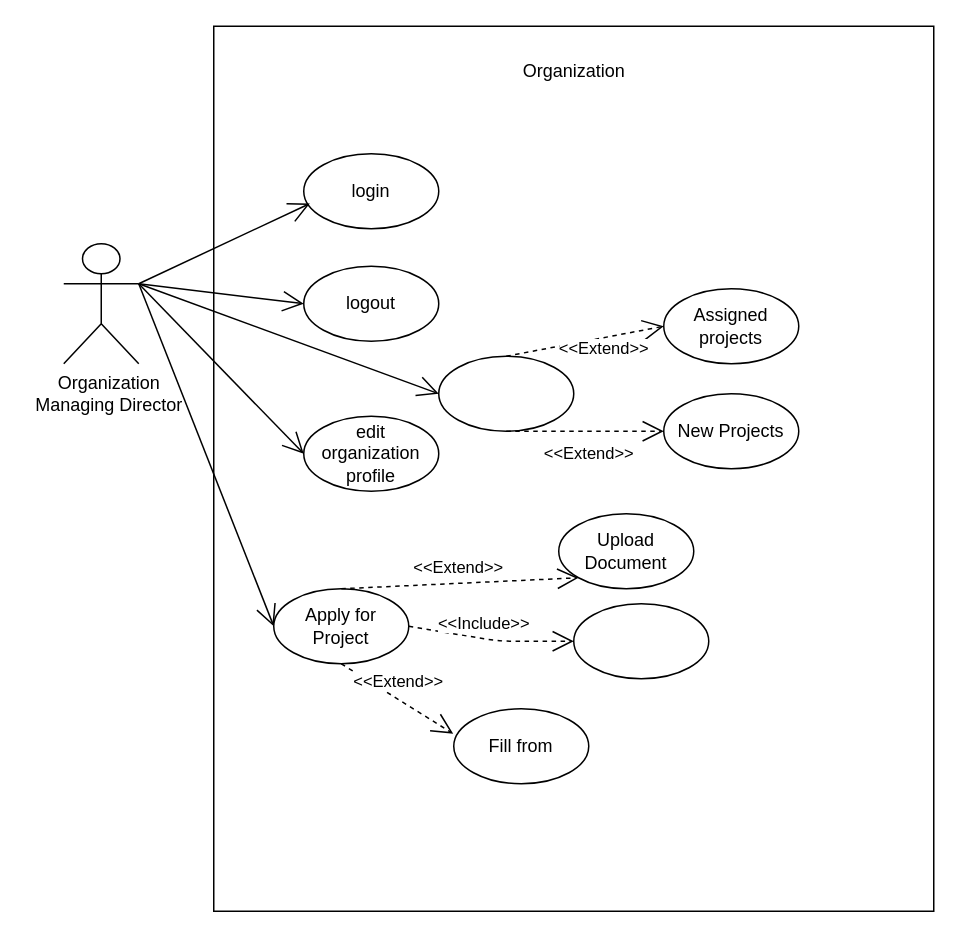
This 960x938 diagram has some shape labels left out. The centre of each missing label's shape, as x and y in pixels:
"Payment" goes at (640,640).
"Show Projects" goes at (505,393).
